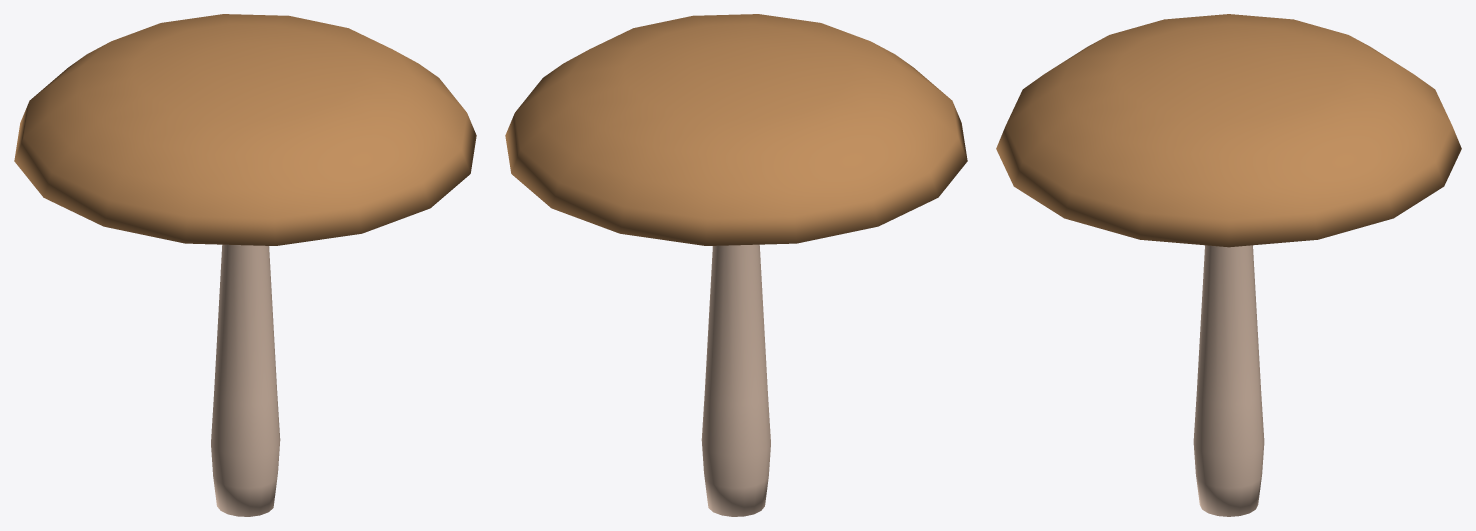
File: V1.MushroomSingle02a.fbx
3 views of the same model, side by side, from view 1: azimuth 30°, elevation 25°; view 2: azimuth 150°, elevation 25°; view 3: azimuth 270°, elevation 25° (orthographic).
Parts seen in each view (by area): view 1: Cylinder; view 2: Cylinder; view 3: Cylinder.
Part boxes in pixels (bbox=[...]): Cylinder: bbox=[14, 14, 476, 516]; Cylinder: bbox=[505, 14, 967, 516]; Cylinder: bbox=[996, 14, 1461, 516].
Size of the model in its own units: 156 by 162 by 156.
